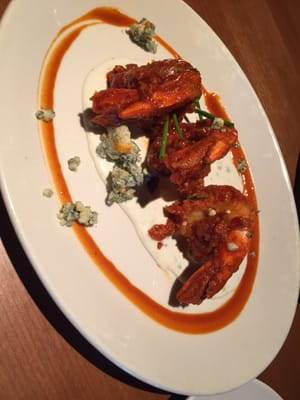curry: (1, 0, 300, 326)
sandwich: (77, 20, 259, 316)
